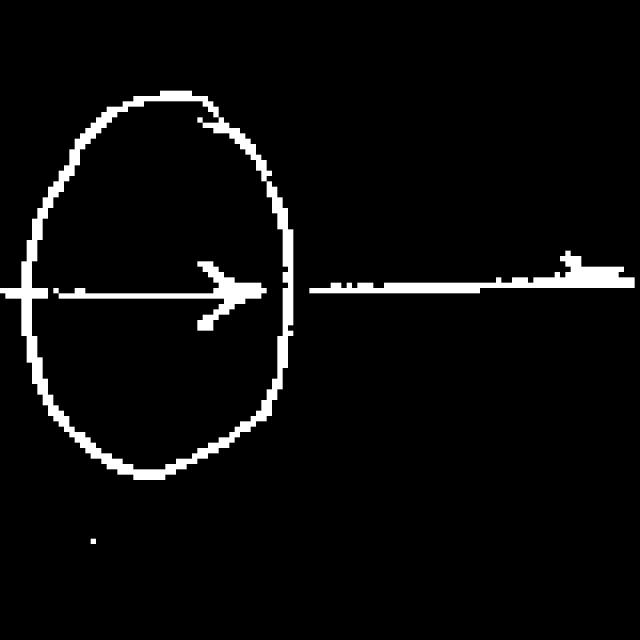current_source: (13, 71, 304, 502)
